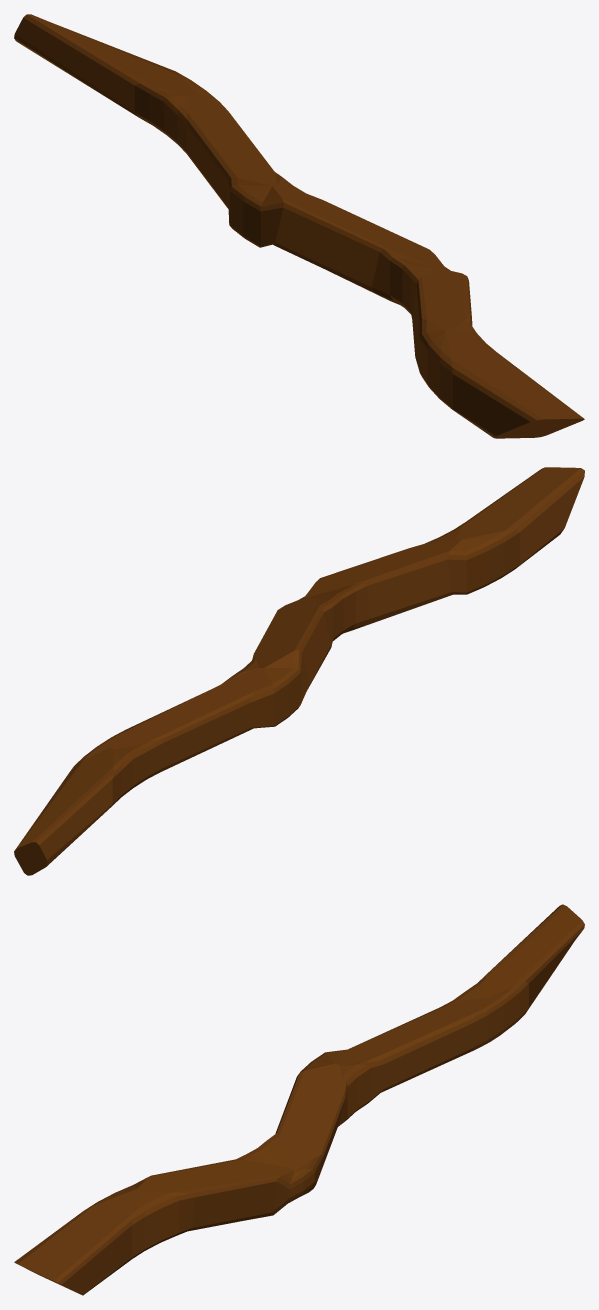
Rendered from Stick.fbx.
The picture shows the model from 3 angles, top to bottom: view 1: azimuth 30°, elevation 25°; view 2: azimuth 150°, elevation 25°; view 3: azimuth 330°, elevation 25°; orthographic projection. The views are drawn at different scales.
Visible parts, largest first — view 1: Cube; view 2: Cube; view 3: Cube.
Part boxes in pixels (x1,y1,x2,y2): Cube: [14, 14, 584, 438]; Cube: [14, 467, 584, 875]; Cube: [14, 904, 584, 1295].
Bounding box in the file's own units: 190 × 99.6 × 1461.
